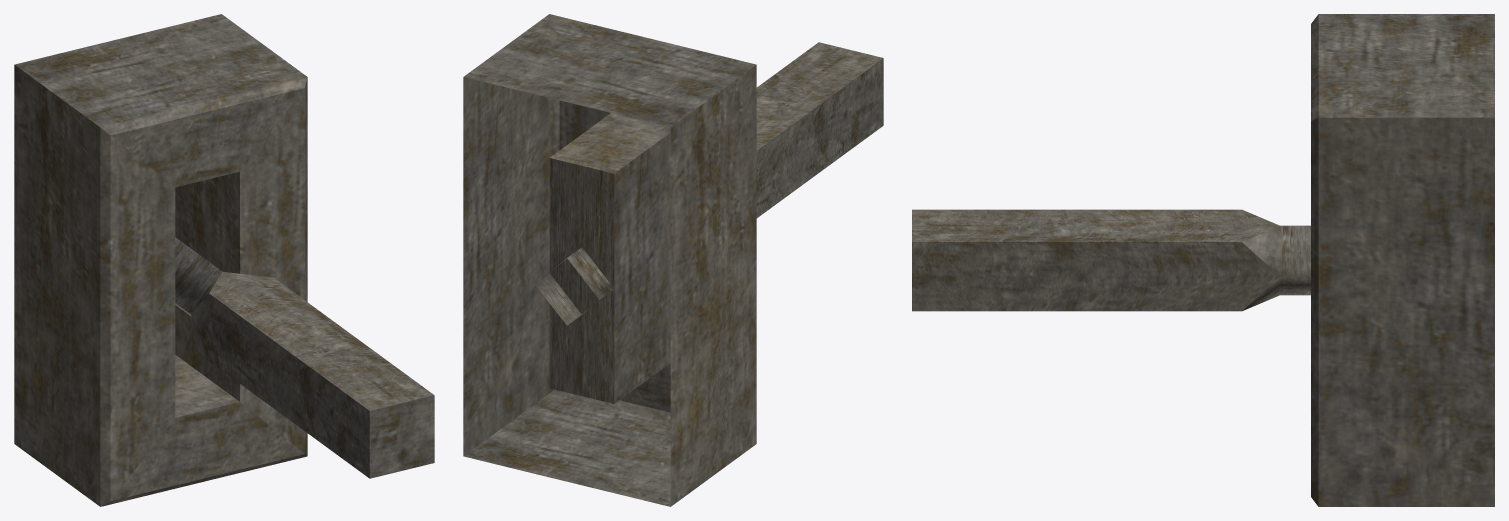
Rendered from lever_3.fbx.
The picture shows the model from 3 angles, left to right: view 1: azimuth 30°, elevation 25°; view 2: azimuth 150°, elevation 25°; view 3: azimuth 270°, elevation 25°; orthographic projection. The views are drawn at different scales.
Visible parts, largest first — view 1: lever_3a, lever_3b; view 2: lever_3a, lever_3b; view 3: lever_3a, lever_3b.
Boxes of the visible parts, bbox=[...] form: lever_3a: bbox=[14, 14, 307, 506]; lever_3b: bbox=[175, 237, 434, 478]; lever_3a: bbox=[463, 14, 756, 506]; lever_3b: bbox=[535, 42, 883, 325]; lever_3a: bbox=[1311, 14, 1494, 506]; lever_3b: bbox=[912, 209, 1310, 311].
Size of the model in its own units: 8 by 14 by 19.
